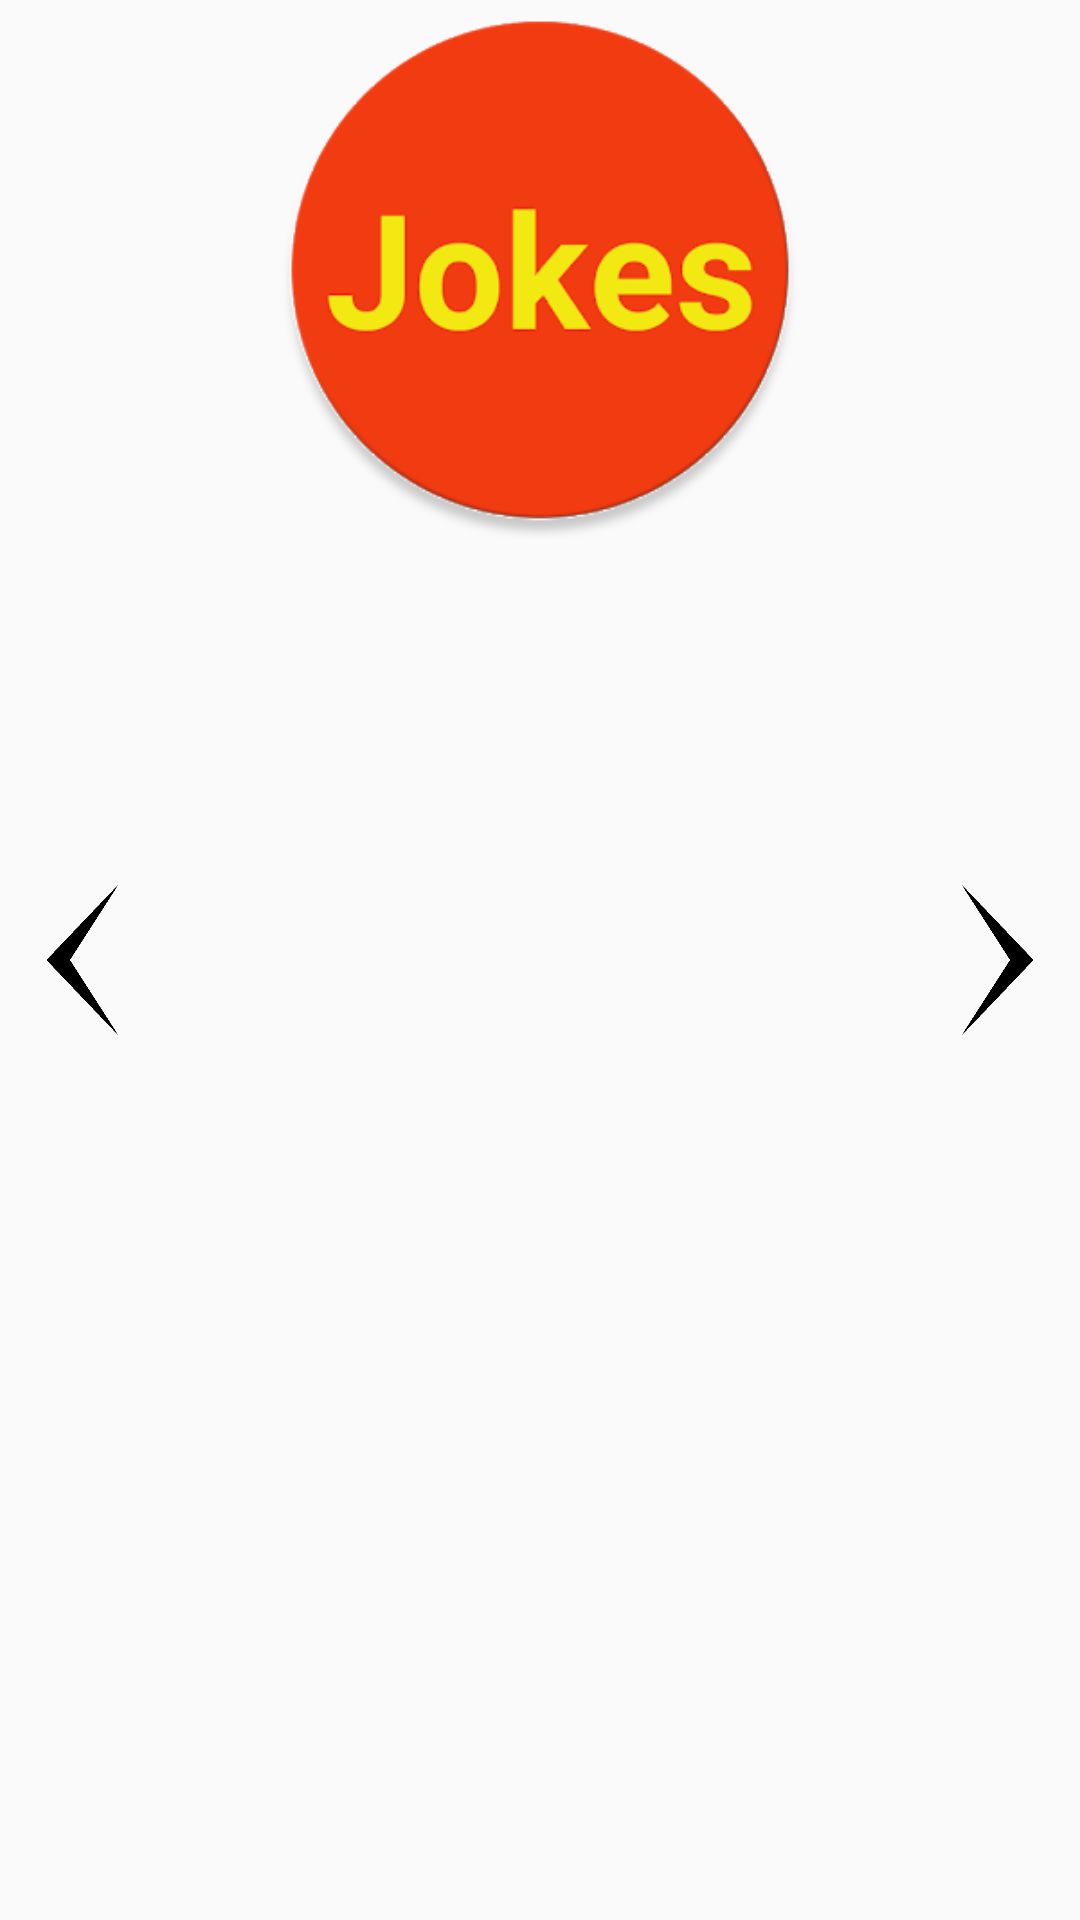

Named icons in this screenshot (1080px x 1920px) and their centers, (x=x, y=y):
next: (x=997, y=960)
prev: (x=82, y=960)
